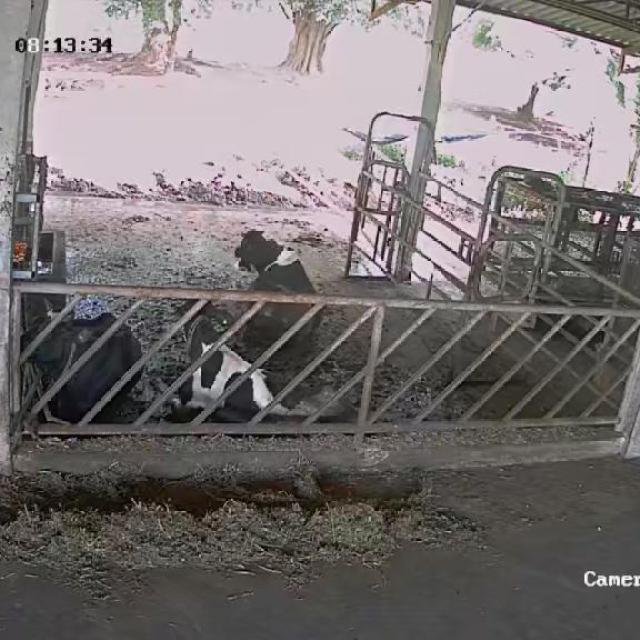lying down: (162, 296, 357, 424), (2, 293, 146, 429), (234, 231, 328, 348)
